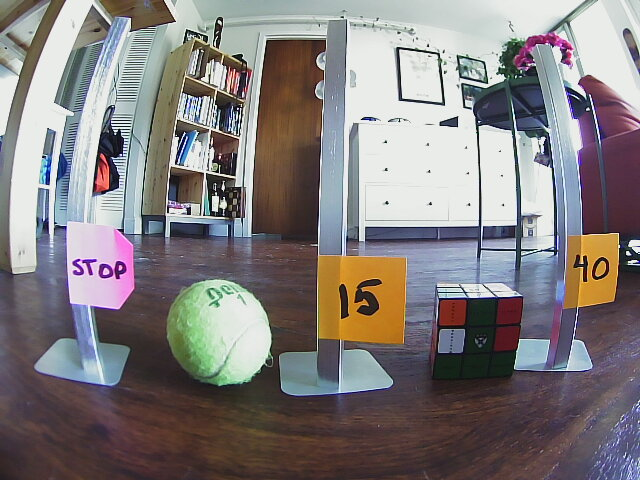15: (319, 255, 404, 342)
40: (566, 236, 617, 305)
ball: (167, 280, 273, 382)
cube: (431, 282, 519, 384)
stop: (67, 222, 131, 307)
